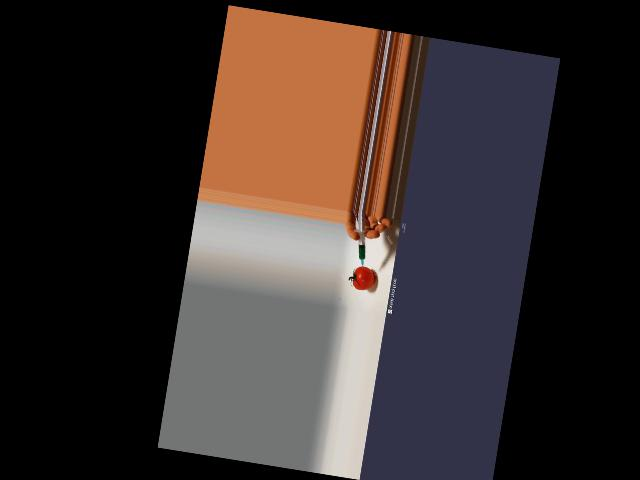tomato: (352, 265, 376, 291)
